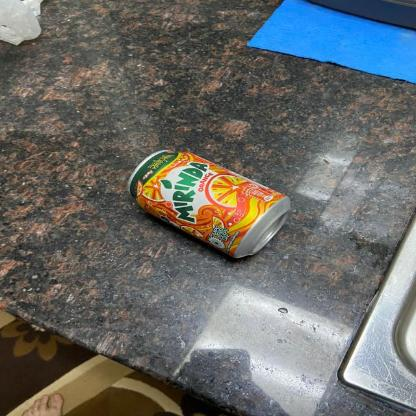Can: (124, 146, 294, 262)
